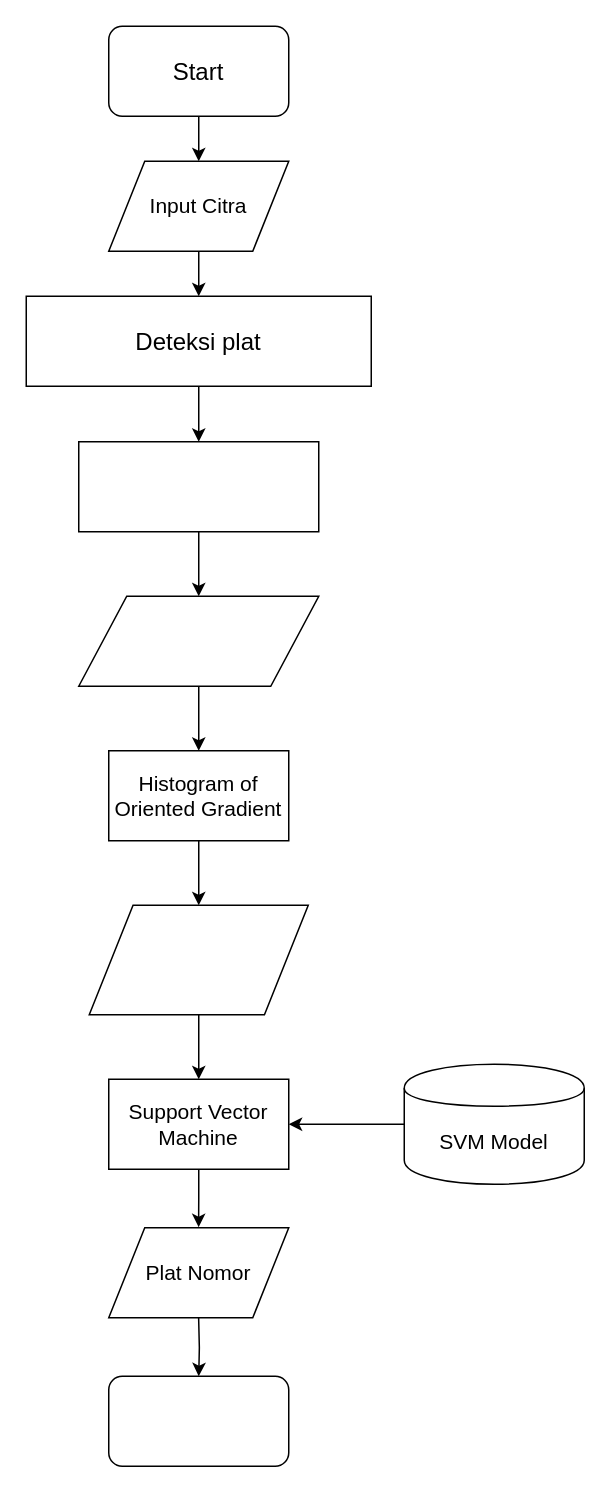
Some shapes in this 611 by 1493 pixel diagram are drawn without their labels. Each missing label, with the centre of its shape:
"Citra Karakter" goes at (x=198, y=640).
"End" goes at (x=198, y=1420).
"HOG Descriptor" goes at (x=198, y=959).
"Segmentasi Karakter" goes at (x=198, y=486).
